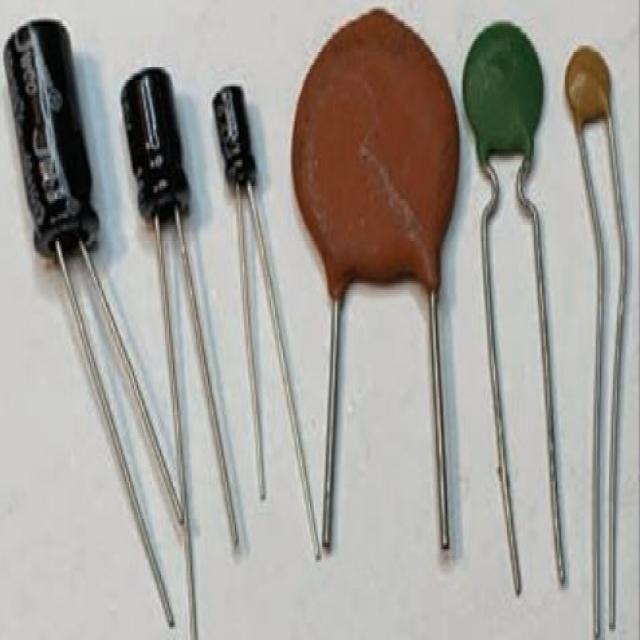Capacitor: (4, 20, 174, 626), (292, 10, 459, 547), (462, 22, 561, 542), (212, 86, 316, 534), (121, 68, 230, 494), (565, 46, 629, 587)
